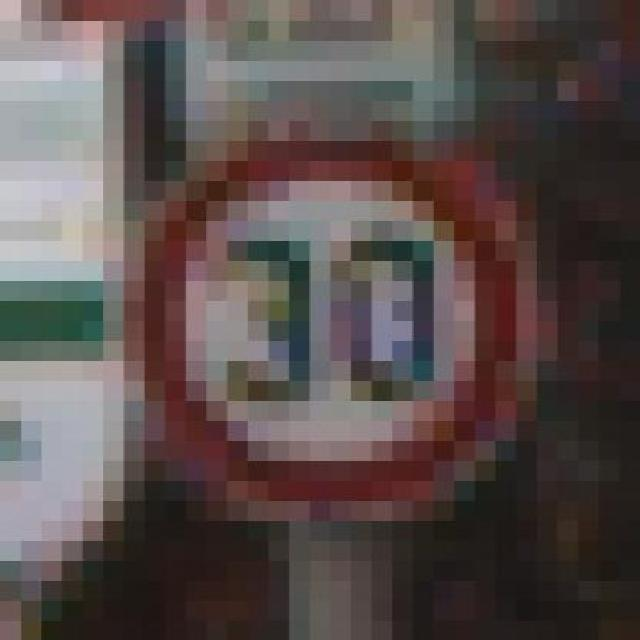forb_speed_over_30: (149, 134, 515, 509)
